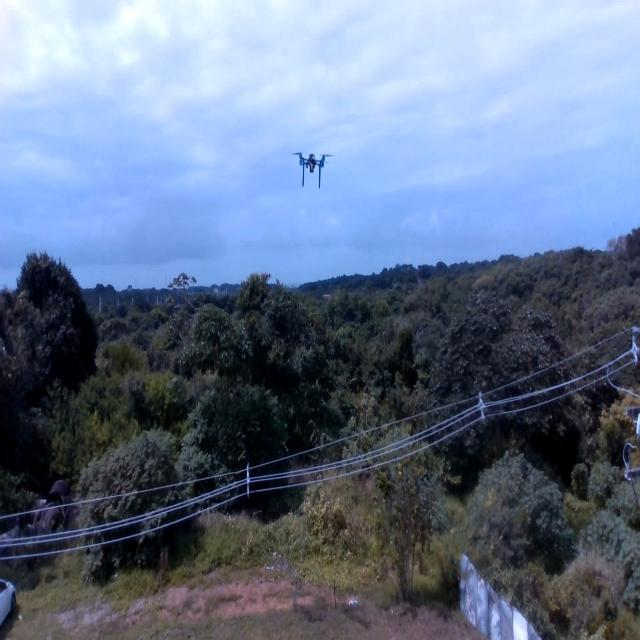-uav-: (292, 139, 340, 194)
